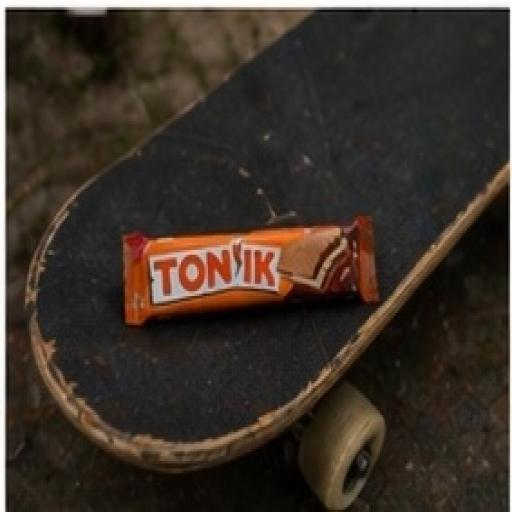tonik: (15, 148, 375, 354)
